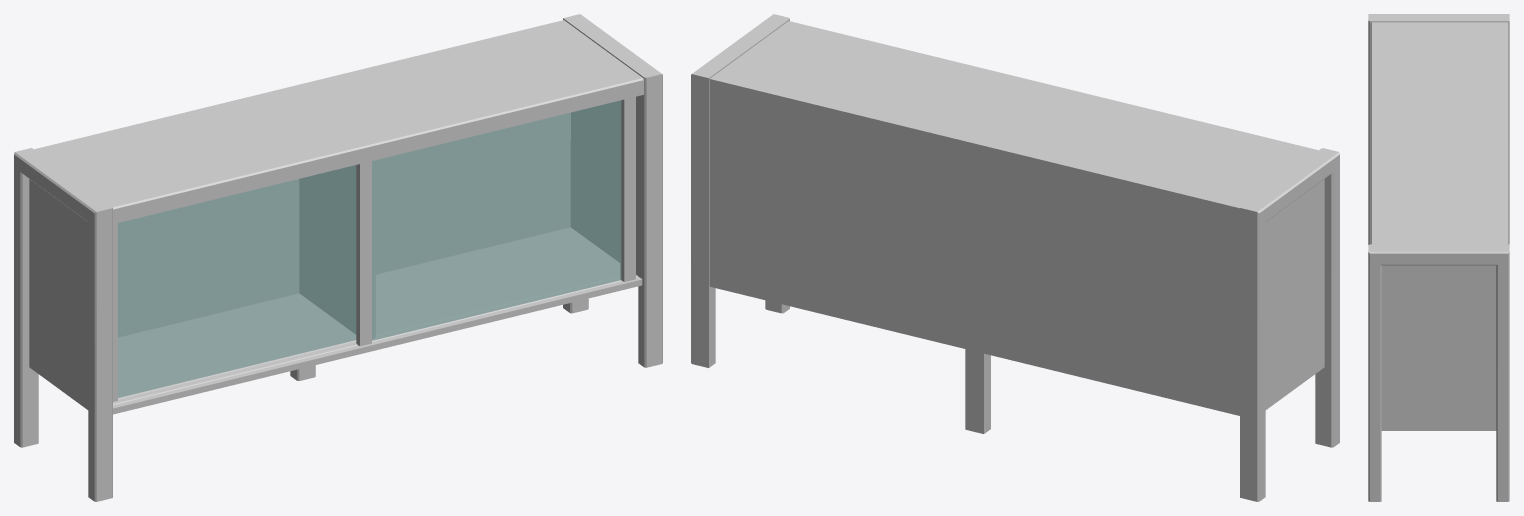
The model's file is JamsundaSideboard.FBX.
3 views of the same model, side by side, from view 1: azimuth 30°, elevation 25°; view 2: azimuth 150°, elevation 25°; view 3: azimuth 270°, elevation 25° (orthographic). The views are drawn at different scales.
Parts seen in each view (by area): view 1: JamsundaSideboard; view 2: JamsundaSideboard; view 3: JamsundaSideboard.
Boxes of the visible parts, <box> form: JamsundaSideboard: <box>14,14,662,501</box>; JamsundaSideboard: <box>691,14,1339,501</box>; JamsundaSideboard: <box>1368,14,1509,501</box>.
Bounding box in the file's own units: 160 × 40 × 78.
